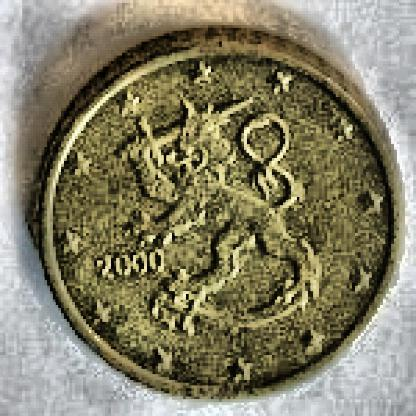coin: (31, 26, 407, 402)
